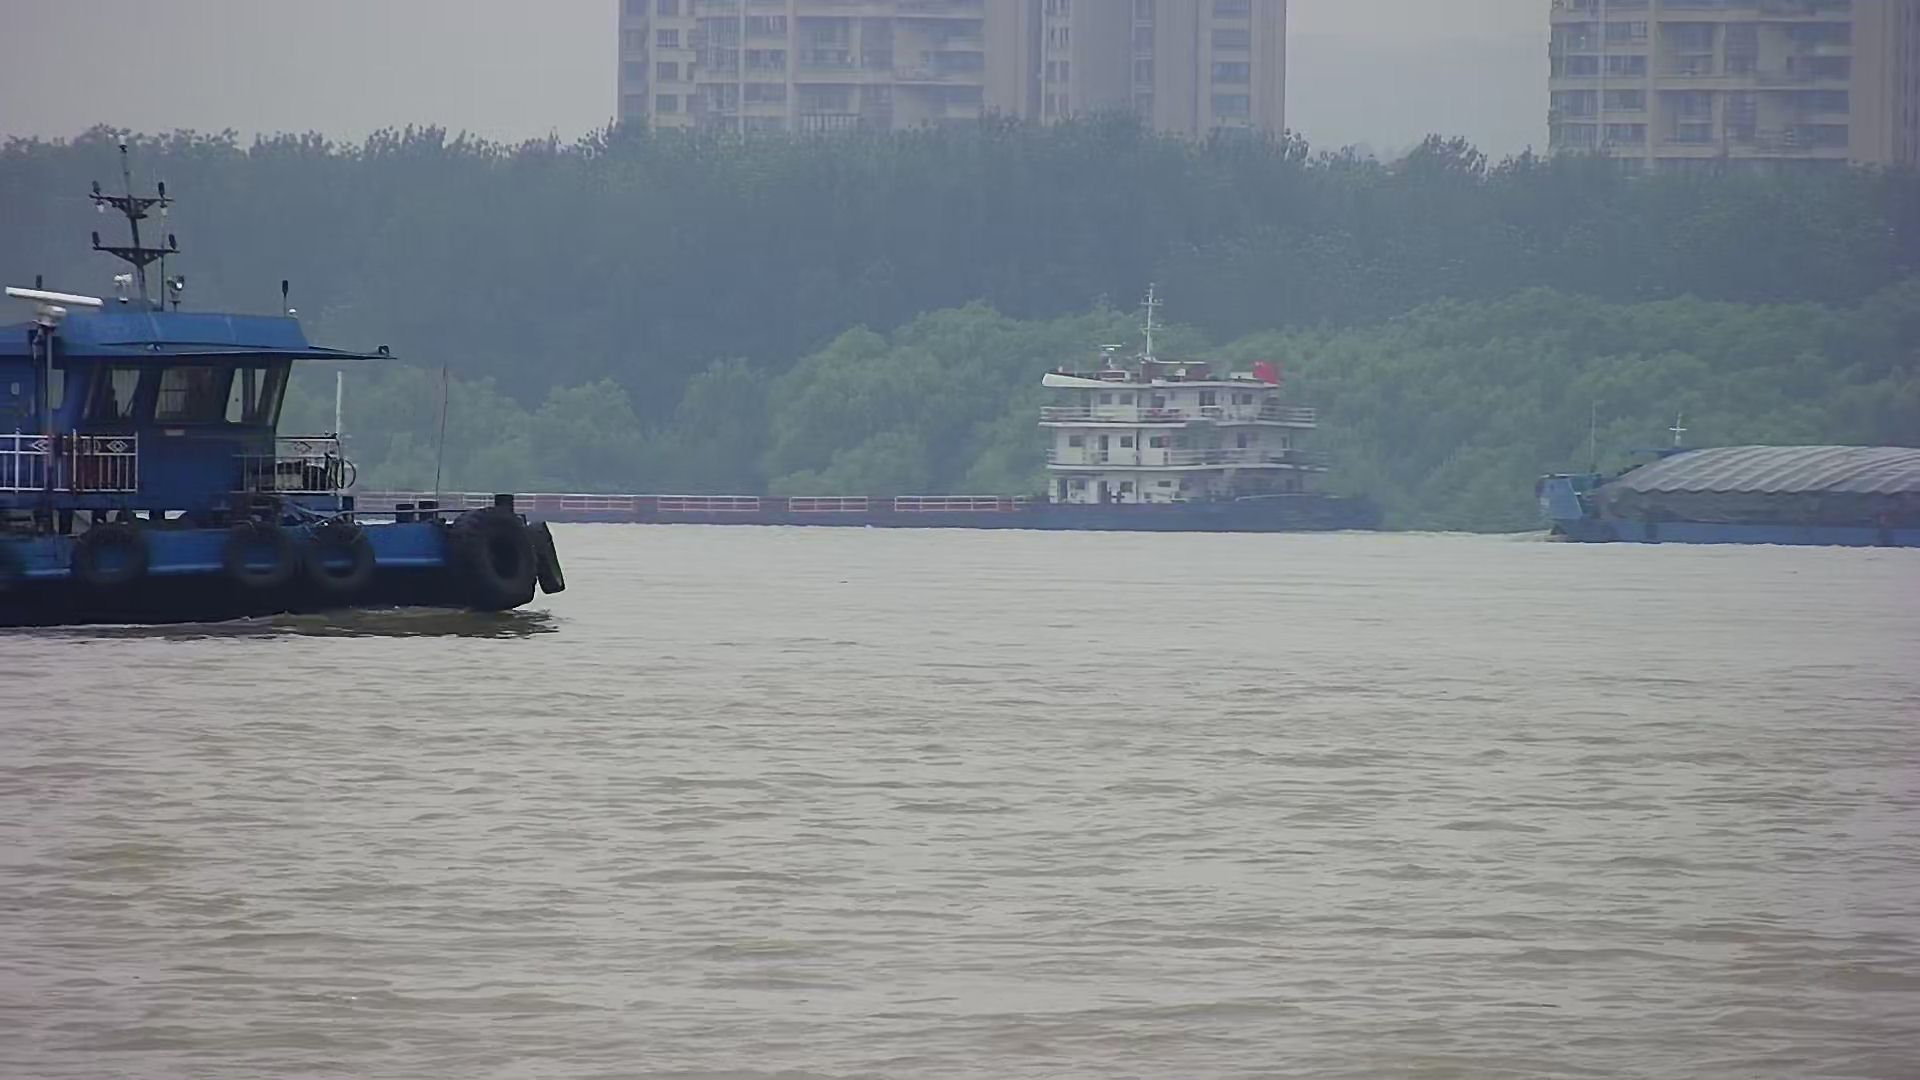ship: (1, 194, 567, 640), (313, 330, 1377, 537), (1503, 381, 1920, 553)
